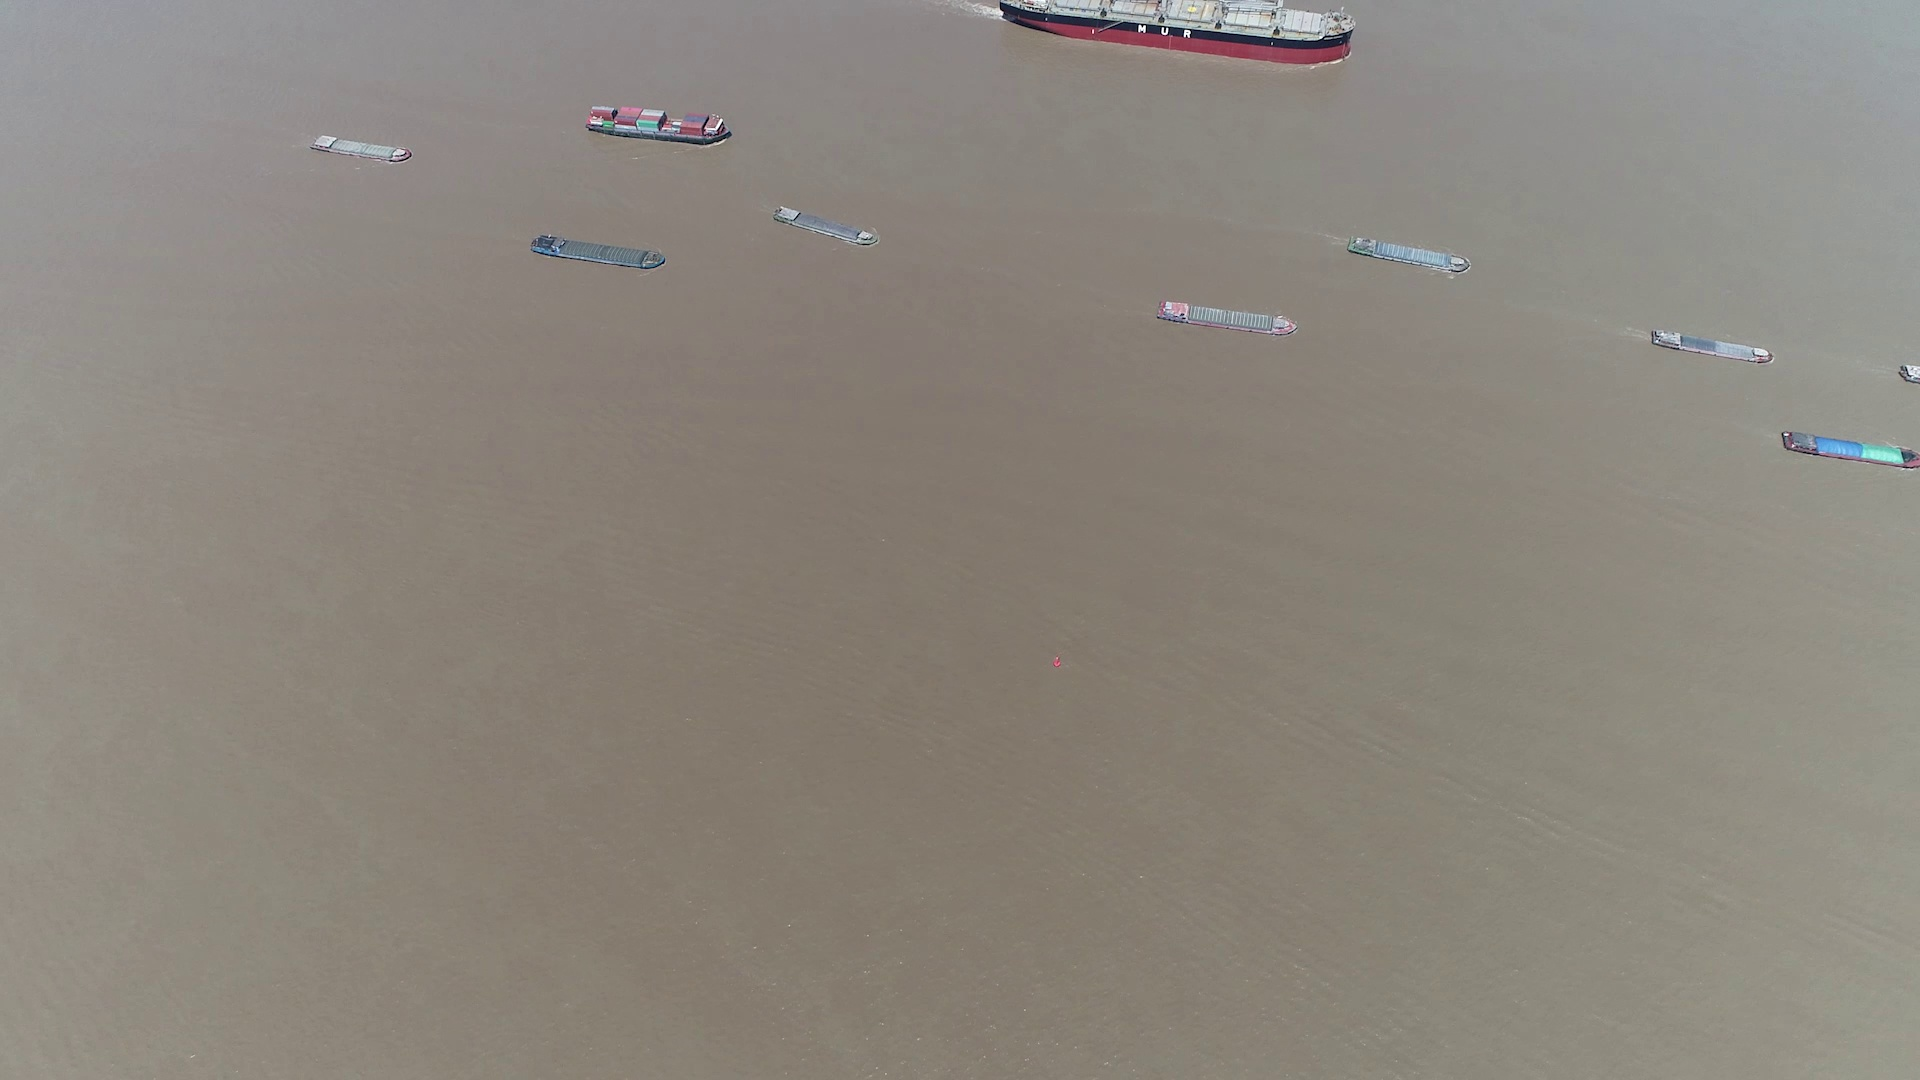ship: (1000, 0, 1352, 63), (585, 107, 733, 146), (1783, 430, 1920, 469), (1345, 232, 1469, 276), (530, 232, 666, 272), (1158, 299, 1296, 336), (1648, 327, 1772, 364), (774, 206, 878, 248), (310, 135, 409, 164), (1898, 359, 1919, 382)
